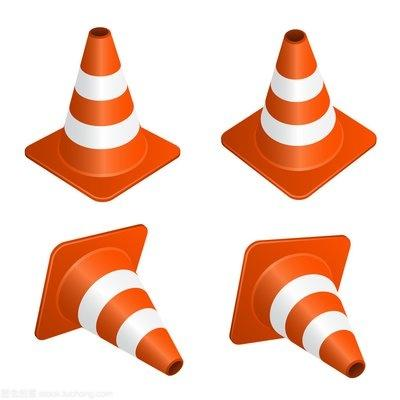cone_barrel: (50, 238, 184, 377), (242, 248, 370, 380), (249, 27, 346, 171), (55, 26, 146, 177)
